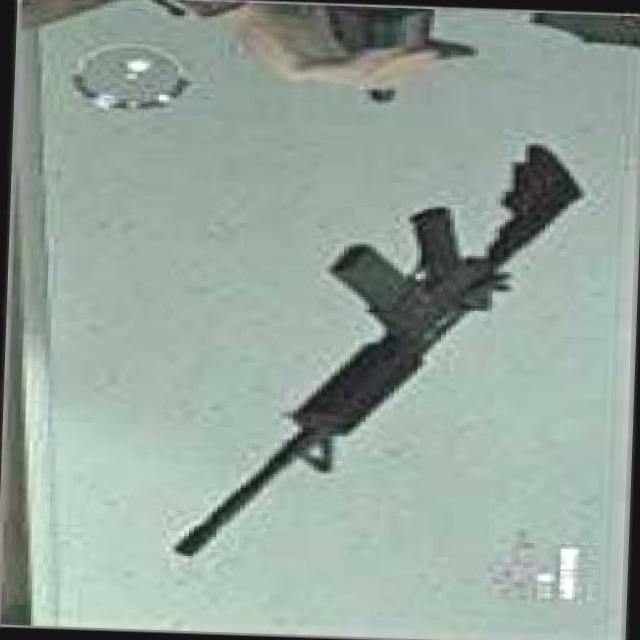long weapon: (118, 102, 610, 594)
